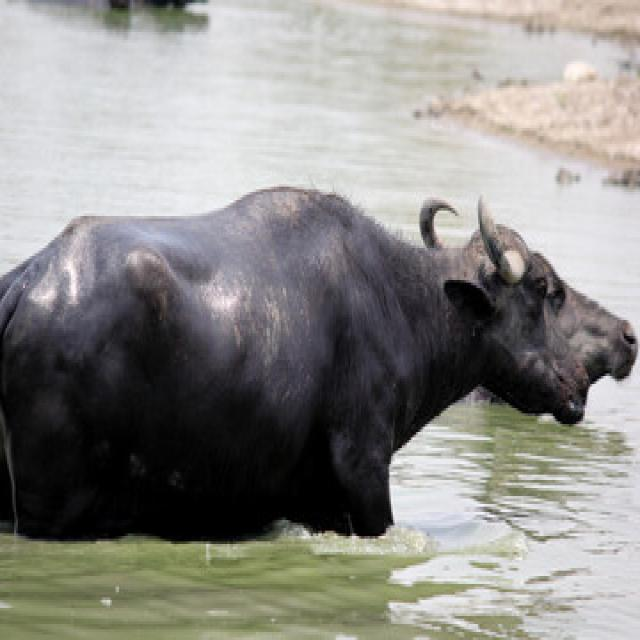Buffalo: (0, 179, 638, 544)
